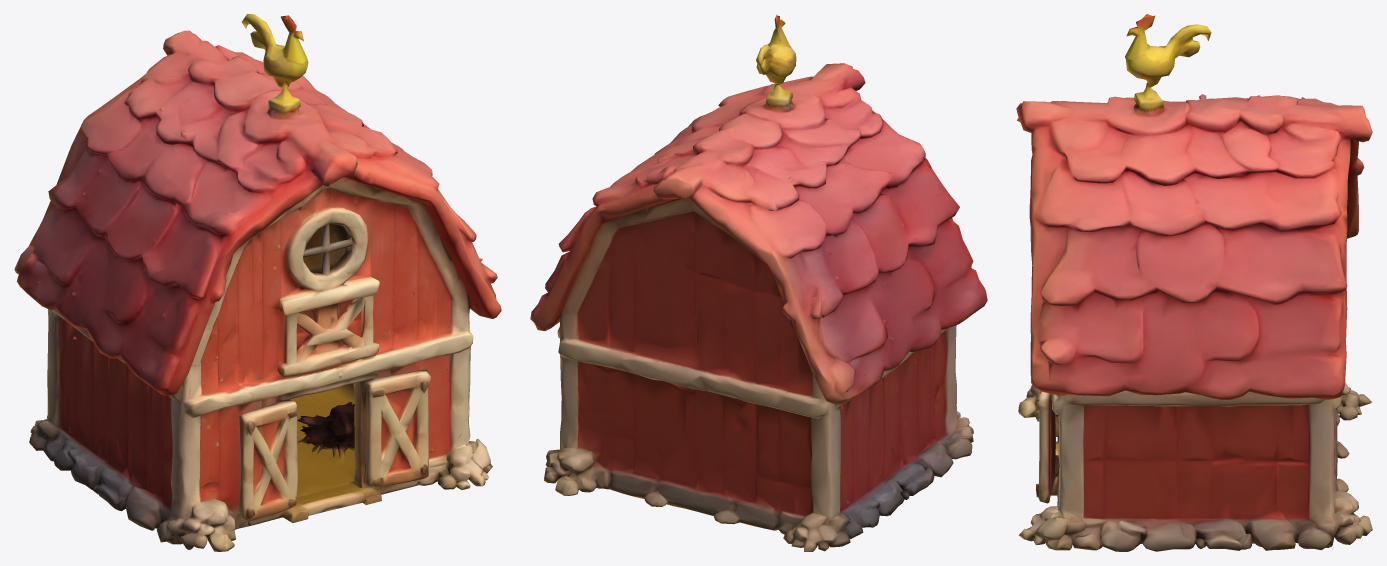
File: barn.glb
3 renders of one model, left to right at view 1: azimuth 30°, elevation 25°; view 2: azimuth 150°, elevation 25°; view 3: azimuth 270°, elevation 25°, orthographic. The views are drawn at different scales.
Parts seen in each view (by area): view 1: tripo_node_543a535f-e8fe-41b6-bd59-472e1ddc2dec; view 2: tripo_node_543a535f-e8fe-41b6-bd59-472e1ddc2dec; view 3: tripo_node_543a535f-e8fe-41b6-bd59-472e1ddc2dec.
Boxes of the visible parts, <box> form: tripo_node_543a535f-e8fe-41b6-bd59-472e1ddc2dec: <box>14,14,501,551</box>; tripo_node_543a535f-e8fe-41b6-bd59-472e1ddc2dec: <box>530,14,987,551</box>; tripo_node_543a535f-e8fe-41b6-bd59-472e1ddc2dec: <box>1016,14,1372,551</box>.
Size of the model in its own units: 0.7875 by 1 by 0.6996.
Materials: 1 (1 with a texture image).
